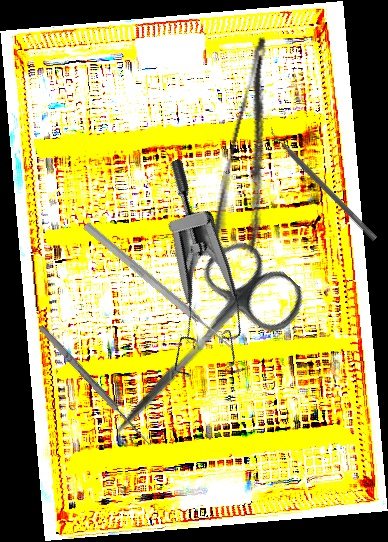Dressing Forceps: (206, 35, 304, 257)
Hook Surgical: (36, 319, 159, 449)
Iris Scissors: (81, 229, 314, 471)
Pusher: (81, 220, 237, 354)
Spatula Surgical: (264, 123, 383, 242)
Speculum: (86, 156, 285, 400)
